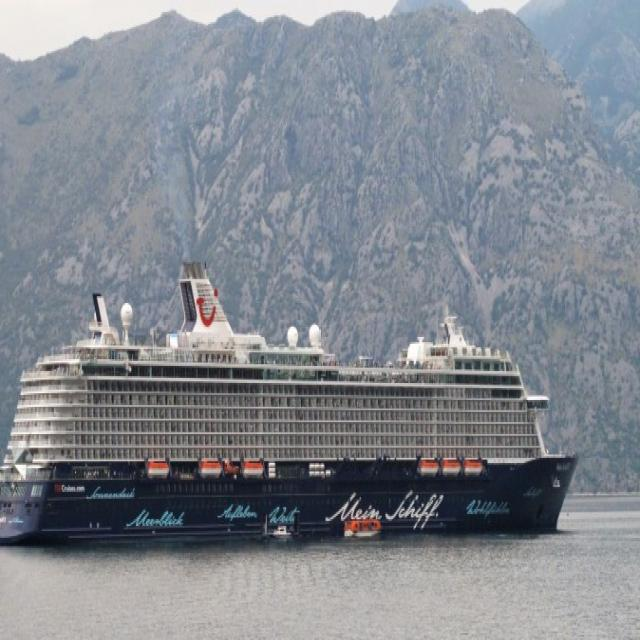cruises: (1, 250, 587, 548)
